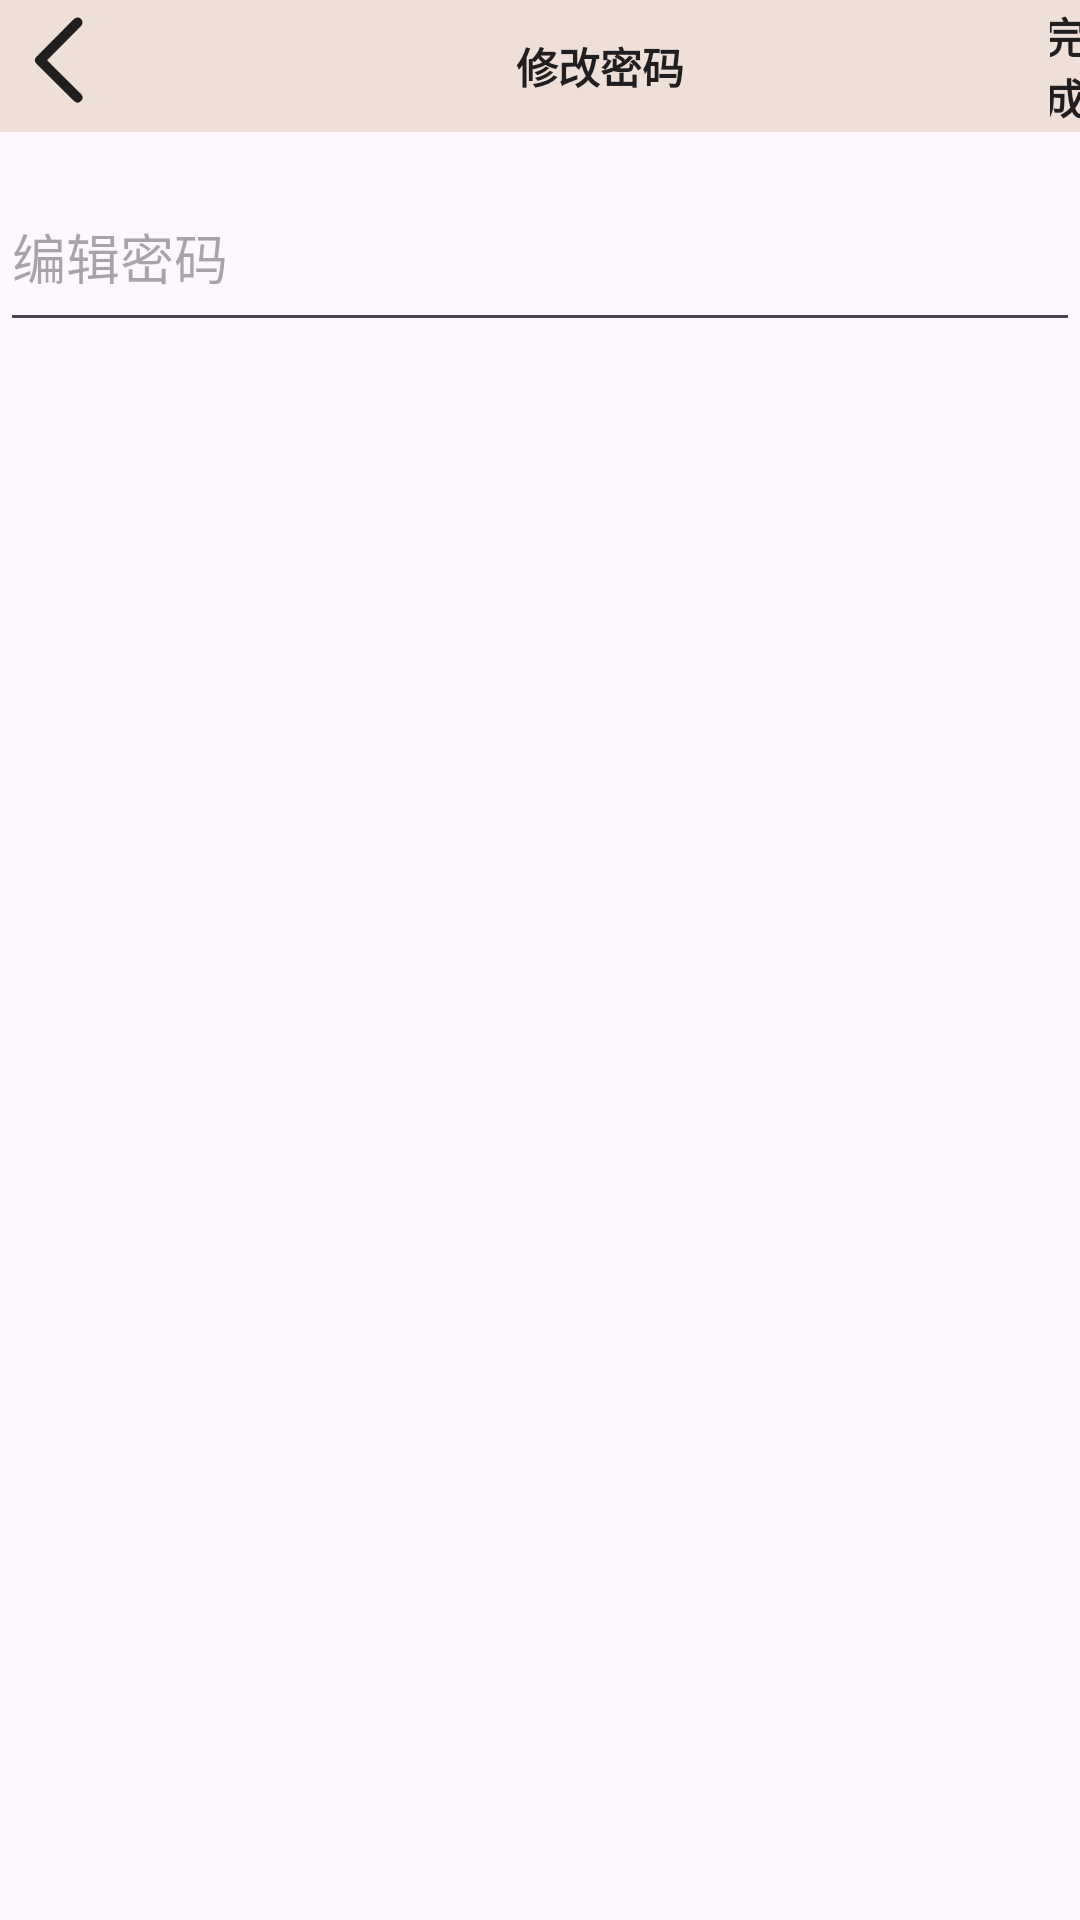

Named icons in this screenshot (1080px x 1920px) and their centers, (x=x, y=y):
back: (x=58, y=60)
